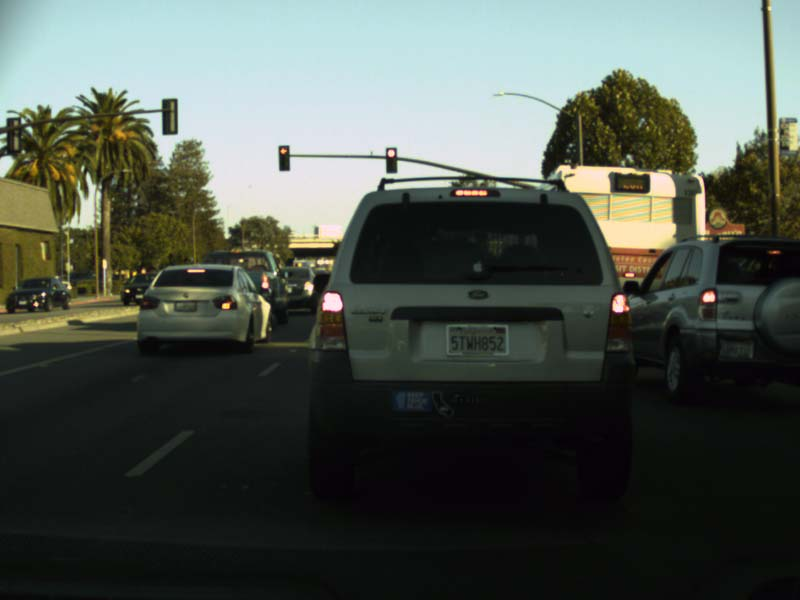Red: (385, 147, 396, 173), (278, 145, 289, 170)
